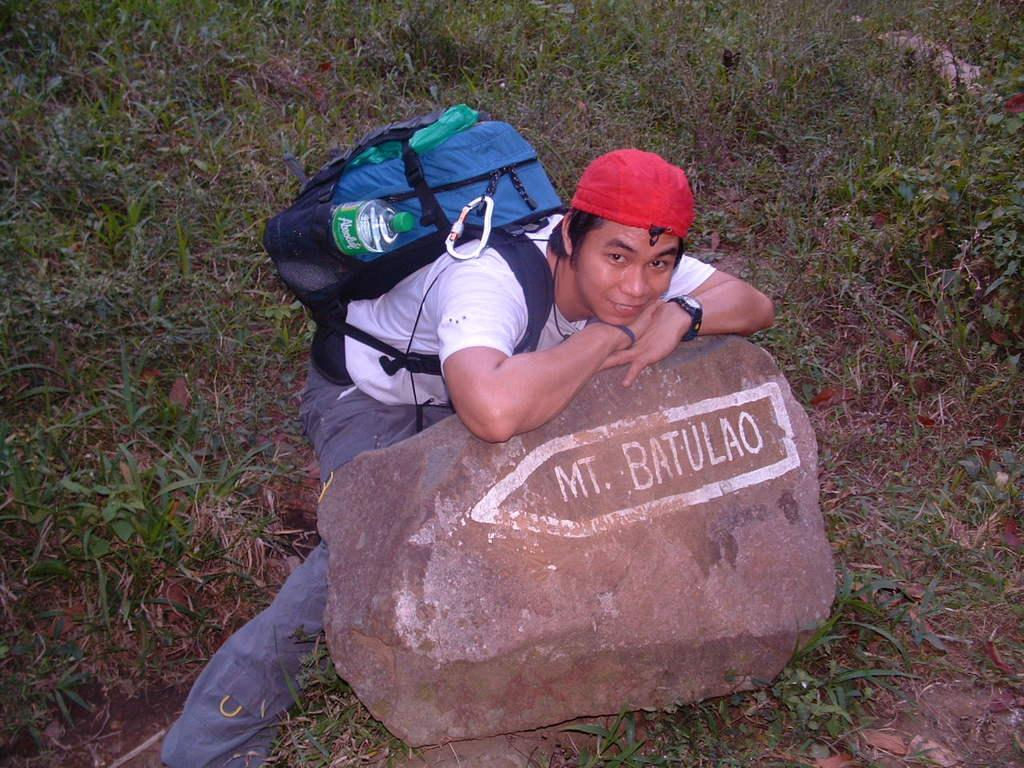Luggage-and-bags: (271, 130, 622, 432)
